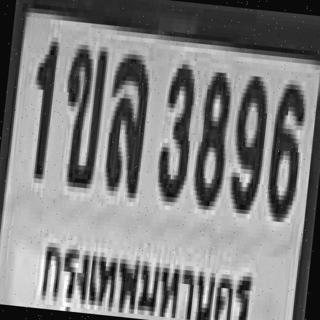A02: (56, 39, 107, 184)
A36: (102, 48, 151, 189)
N01: (26, 36, 57, 174)
N03: (154, 58, 197, 198)
N06: (263, 78, 307, 218)
N08: (190, 66, 232, 206)
N09: (226, 70, 270, 210)
P04: (32, 226, 268, 320)
